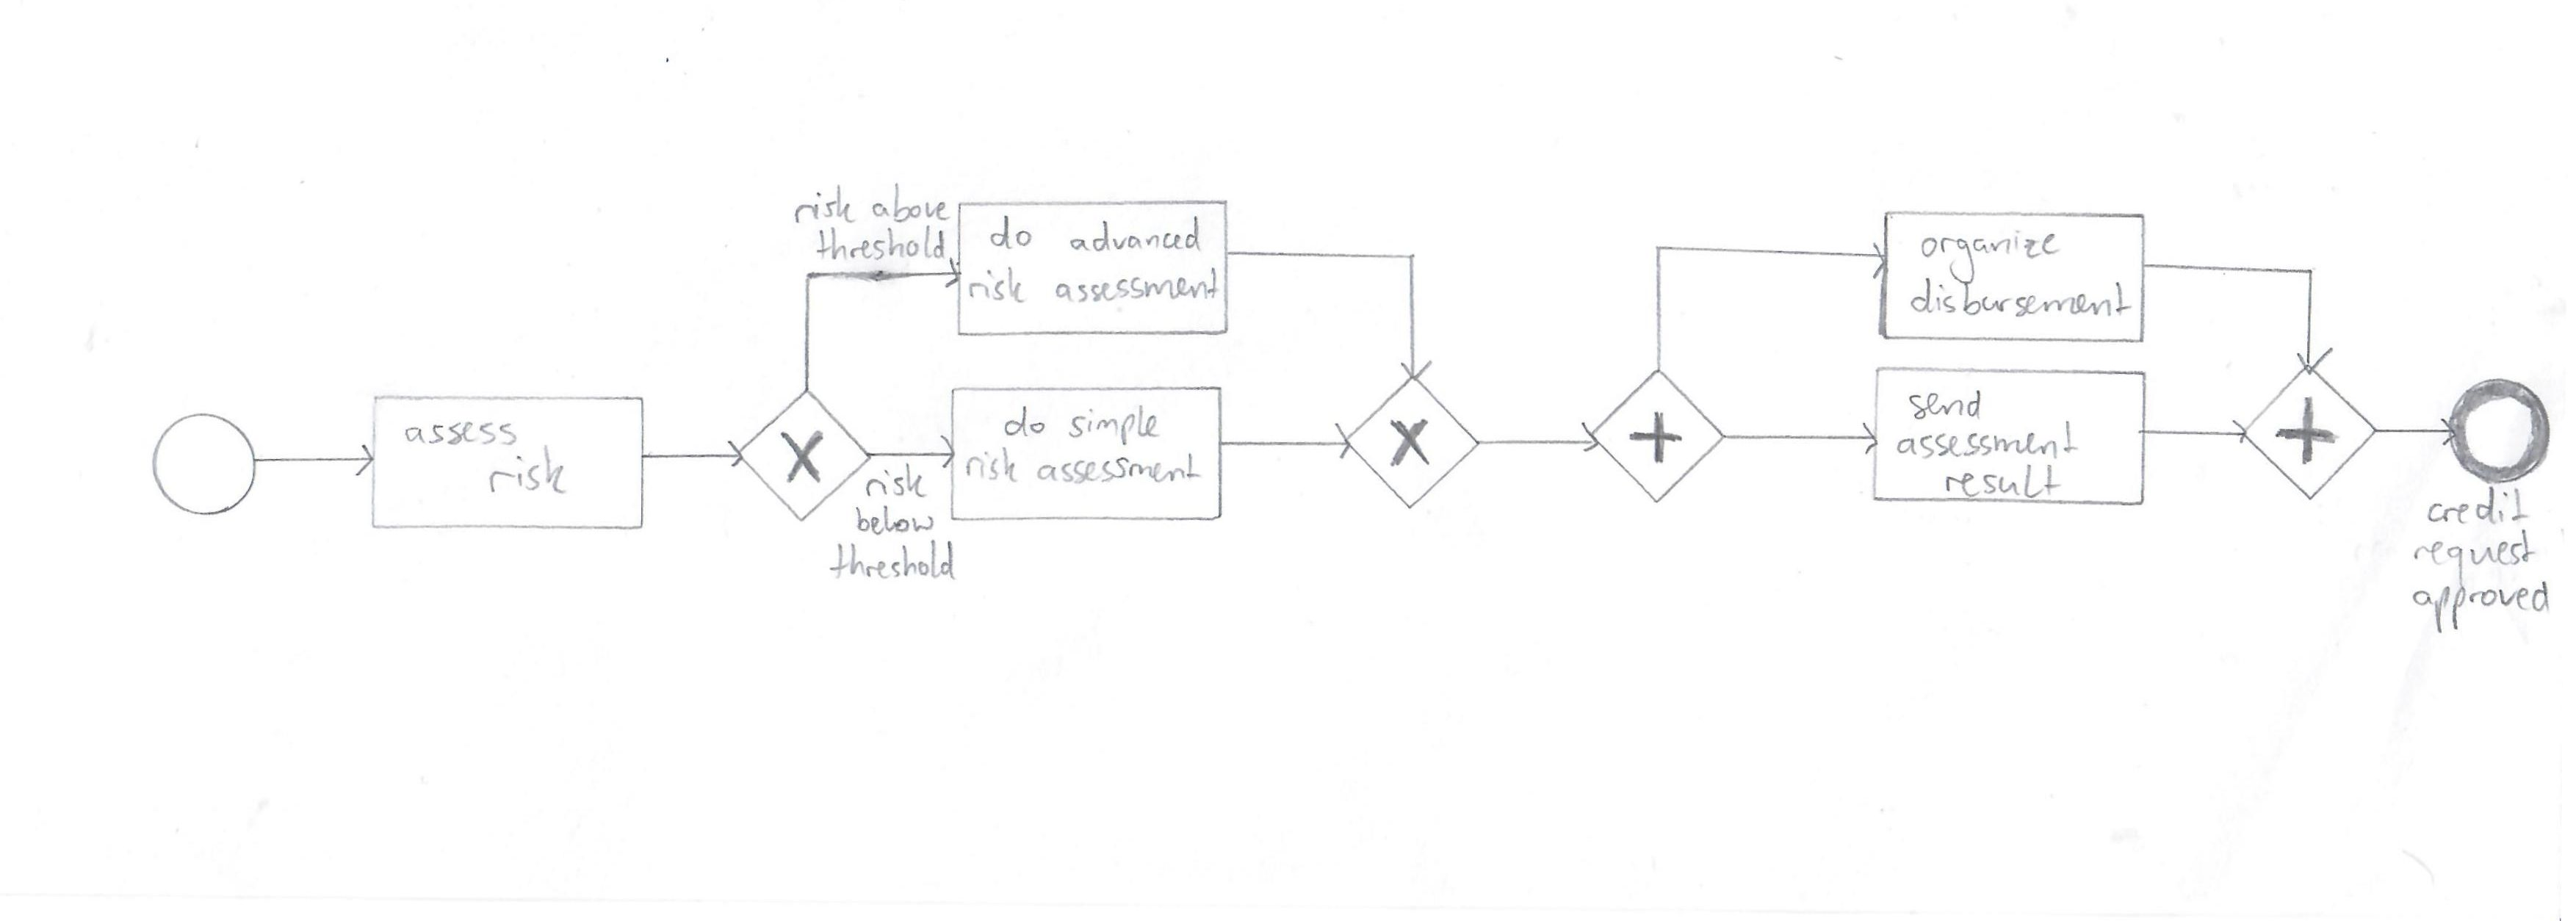above: (867, 179, 954, 230)
advanced: (1065, 213, 1206, 256)
approved: (2408, 576, 2555, 635)
assess: (401, 419, 521, 450)
assessment: (1893, 417, 2081, 463), (1051, 264, 1222, 307), (1032, 450, 1206, 491)
below: (853, 502, 938, 538)
credit: (2423, 481, 2533, 530)
disbursement: (1906, 277, 2131, 322)
do: (986, 212, 1037, 253), (999, 404, 1048, 440)
organize: (1916, 227, 2063, 287)
request: (2410, 525, 2541, 589)
result: (1940, 460, 2060, 502)
risk: (485, 442, 572, 499), (789, 181, 861, 227), (861, 460, 930, 502), (963, 264, 1030, 305), (961, 442, 1020, 488)
send: (1906, 386, 1985, 424)
simple: (1063, 402, 1165, 448)
threshold: (826, 535, 959, 586), (812, 223, 950, 266)
